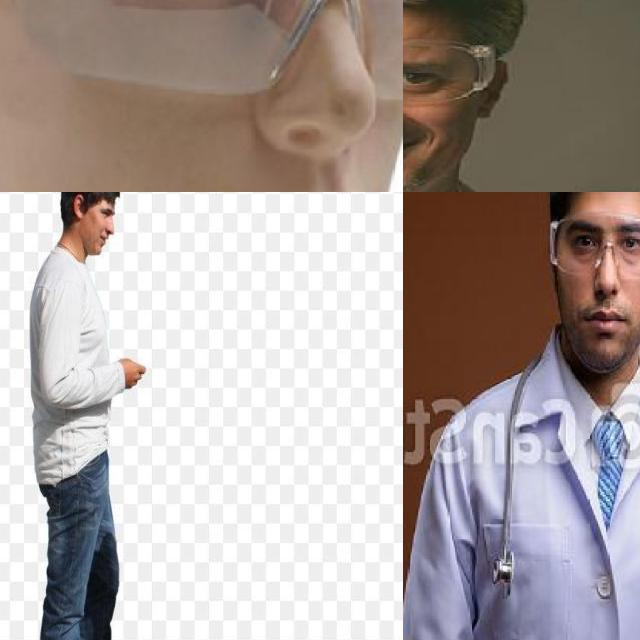No_Ear-Protection: (69, 192, 87, 226)
face_nomask: (125, 0, 403, 192), (403, 41, 470, 178), (563, 224, 640, 342), (92, 218, 122, 256)
glasses: (0, 0, 403, 101), (403, 35, 504, 114), (549, 209, 640, 280)
hand_noglove: (107, 340, 151, 402)
person: (403, 192, 640, 640), (28, 192, 146, 640), (403, 0, 640, 192)
